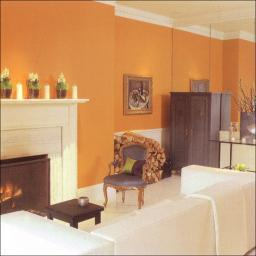Armario: (168, 92, 215, 167)
